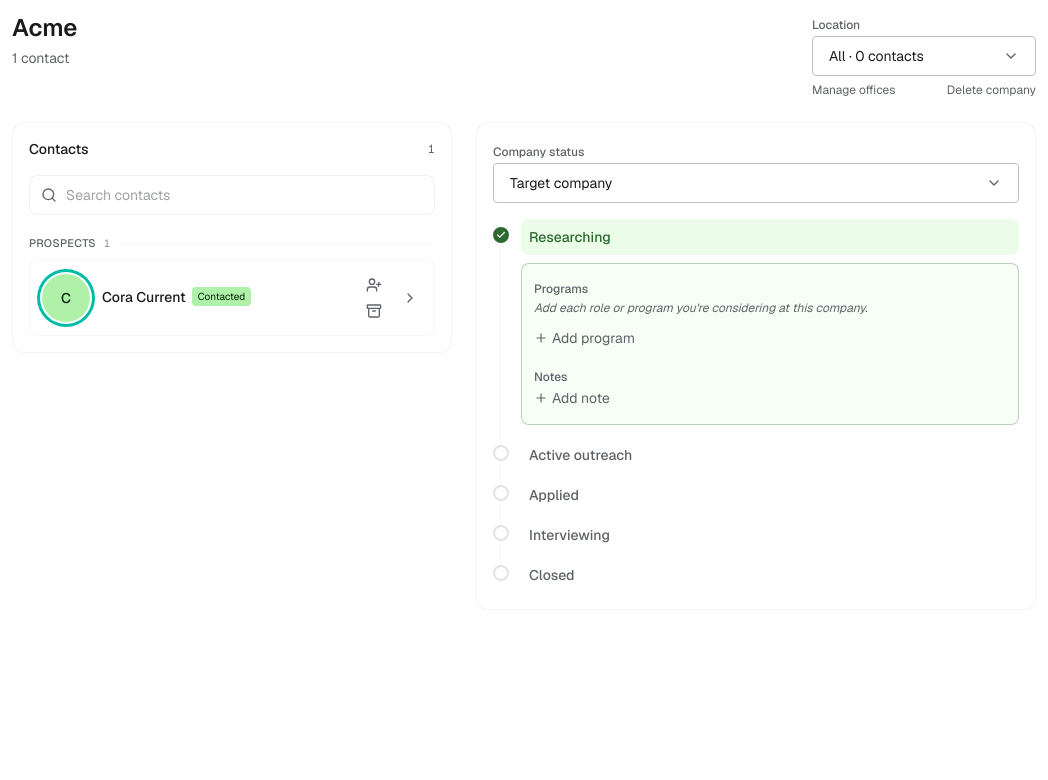
Test: Active outreach record: current employees only › keeps the record intact when the search matches nobody
Type "zzzzzz" into the search field with placeholder "Search contacts" at (232, 195), box x1=29 y1=175 x2=435 y2=215
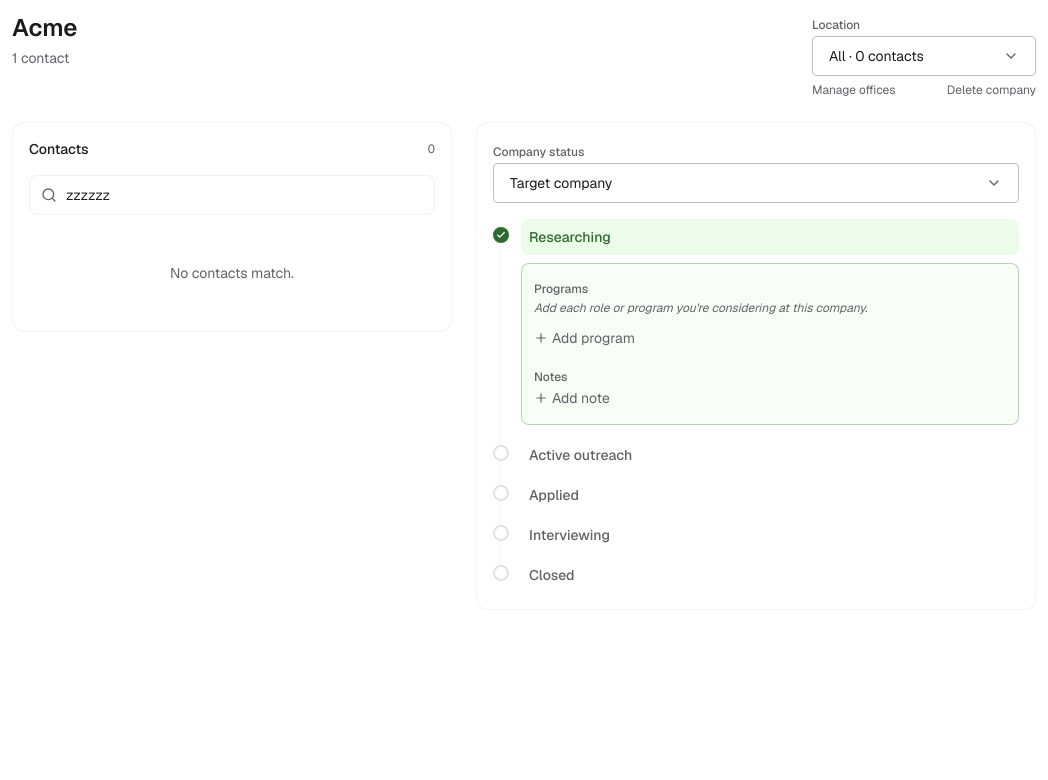
Expected: the text "No contacts match." is shown, x1=170 y1=264 x2=294 y2=282
